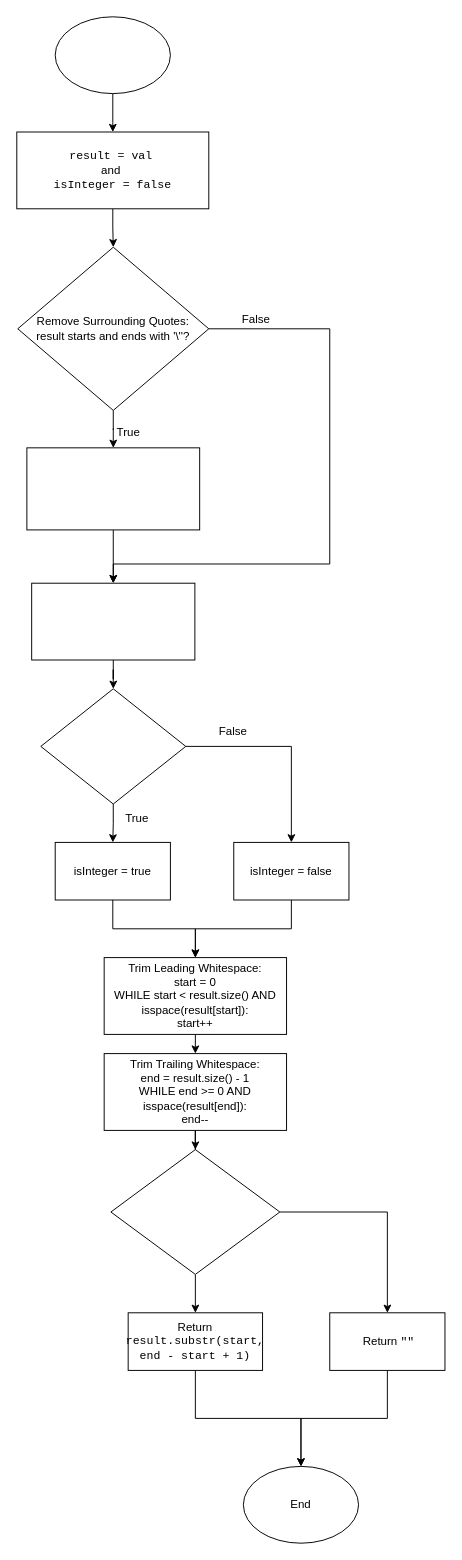
Image size: 462x1560. Some labels were removed from this diagram. Here are the shapes that lost their labels. From the top down, the box of each, then its label:
(54, 16, 170, 94): Start
(26, 447, 200, 530): Remove quotes → result = result.substr(1, result.size() - 2)
(31, 582, 195, 660): Try to parse result using stoi(result)
(40, 688, 186, 804): stoi succeeded?
(110, 1149, 280, 1274): Return Result: start <= end?
